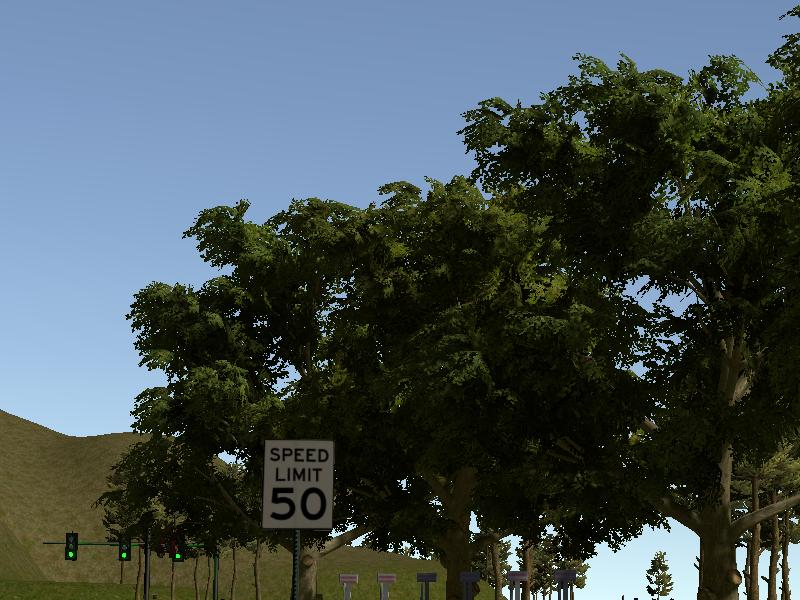Green: (117, 537, 132, 561), (66, 534, 78, 560)
